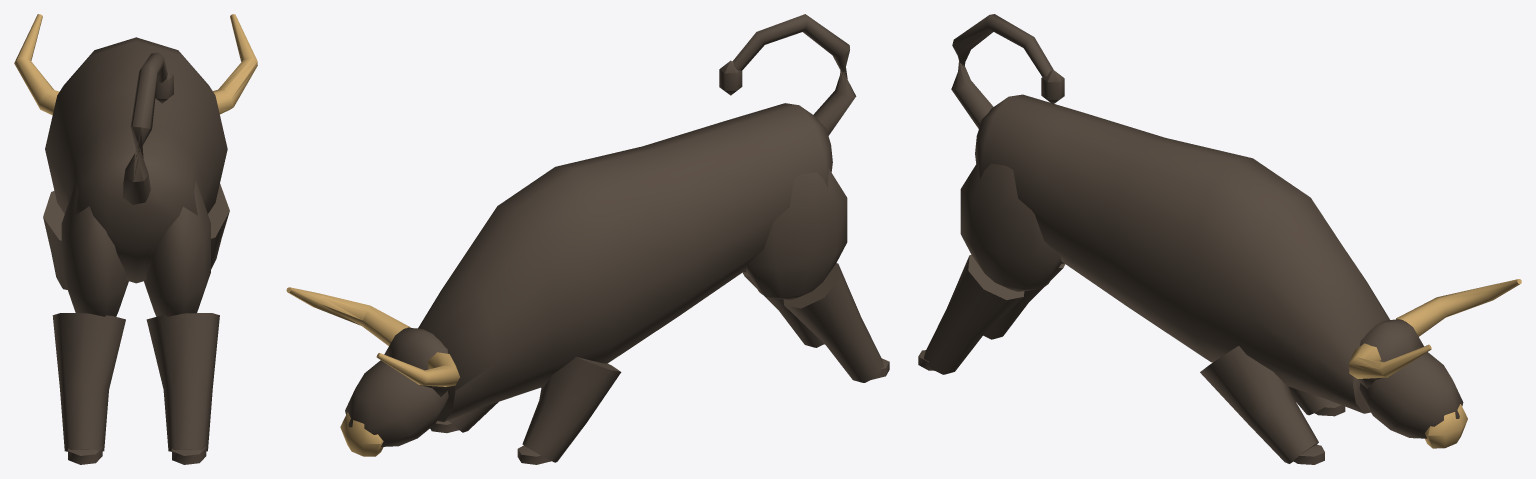
The picture shows the model from 3 angles, left to right: view 1: azimuth 30°, elevation 25°; view 2: azimuth 150°, elevation 25°; view 3: azimuth 270°, elevation 25°; orthographic projection. The views are drawn at different scales.
Visible parts, largest first — view 1: charging-bull; view 2: charging-bull; view 3: charging-bull.
Boxes of the visible parts, x1,y1,x2,y2 form: charging-bull: (14,14,257,464); charging-bull: (286,14,889,464); charging-bull: (918,14,1521,464).
Size of the model in its own units: 3.8 by 3.35 by 5.27.
